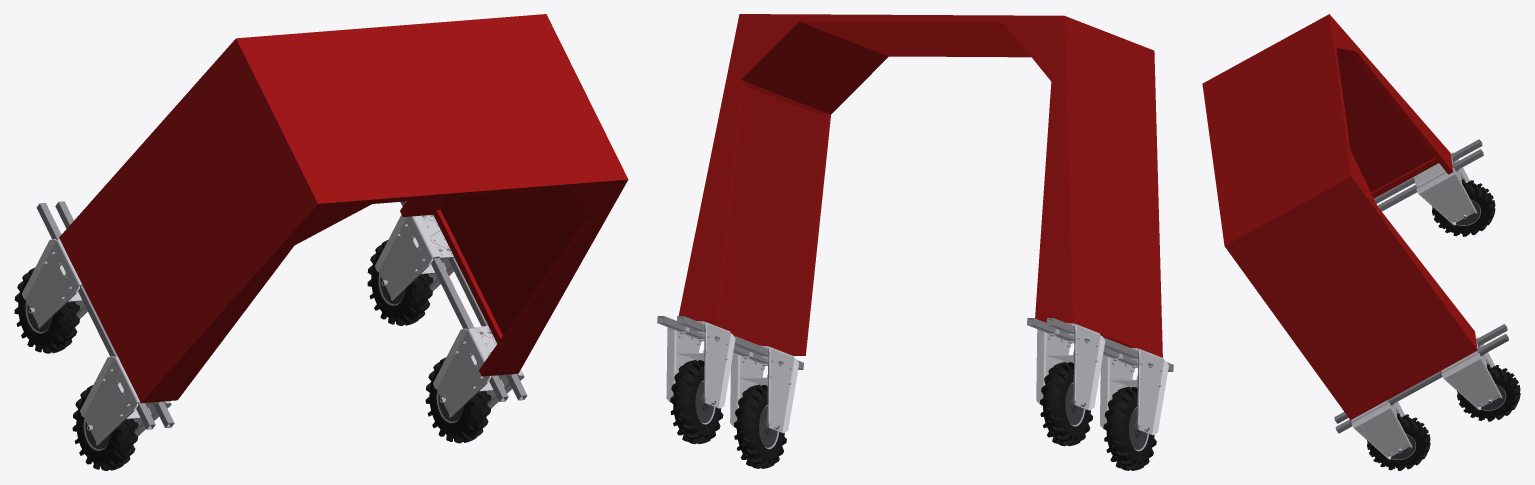
File: redscout-model.glb
3 renders of one model, left to right at view 1: azimuth 30°, elevation 25°; view 2: azimuth 150°, elevation 25°; view 3: azimuth 270°, elevation 25°, orthographic. The views are drawn at different scales.
Parts seen in each view (by area): view 1: NAUO1; view 2: NAUO1; view 3: NAUO1.
Part boxes in pixels (left/top/right/bottom): NAUO1: left=14, top=14, right=628, bottom=470; NAUO1: left=657, top=14, right=1173, bottom=470; NAUO1: left=1202, top=14, right=1520, bottom=470.
Bounding box in the file's own units: 2.51 × 2.71 × 2.16.
1 material, 1 textured.
